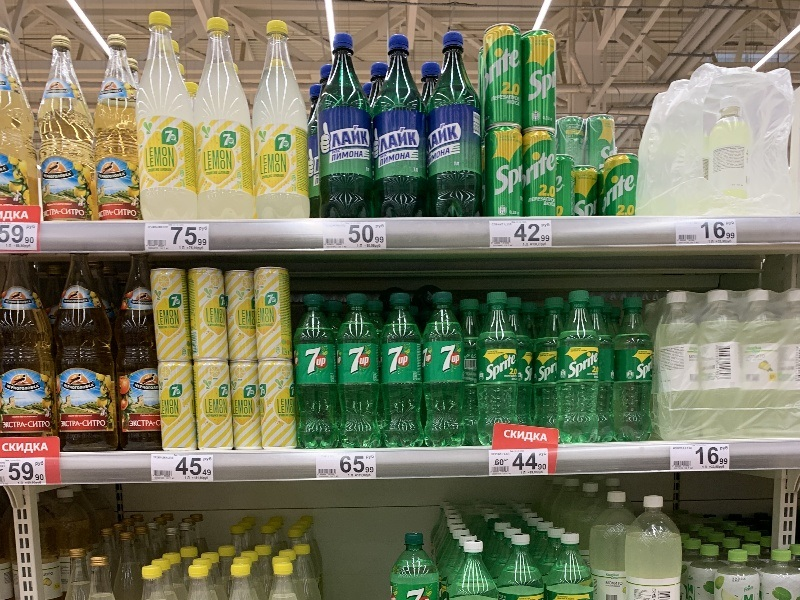lemonade: (308, 32, 377, 227), (420, 29, 489, 223), (370, 30, 434, 222), (286, 290, 346, 457), (334, 294, 385, 455), (420, 290, 471, 451), (376, 292, 427, 451), (473, 289, 521, 448), (555, 289, 603, 447), (609, 292, 657, 450)
